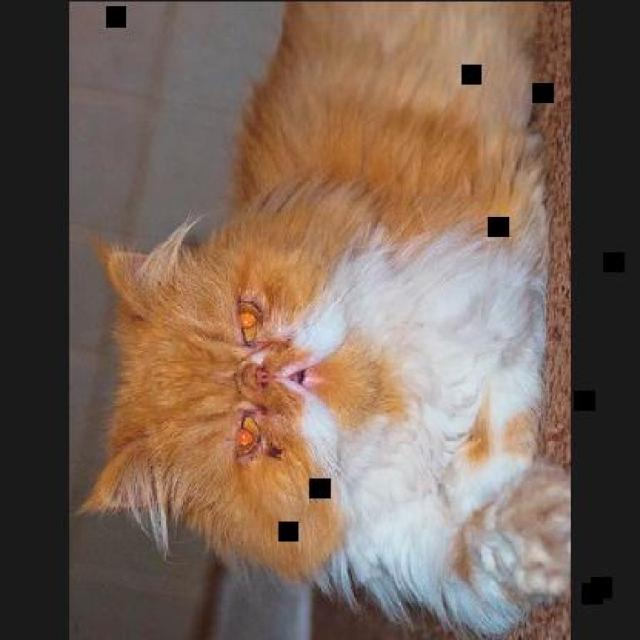unauthorized: (73, 0, 569, 638)
